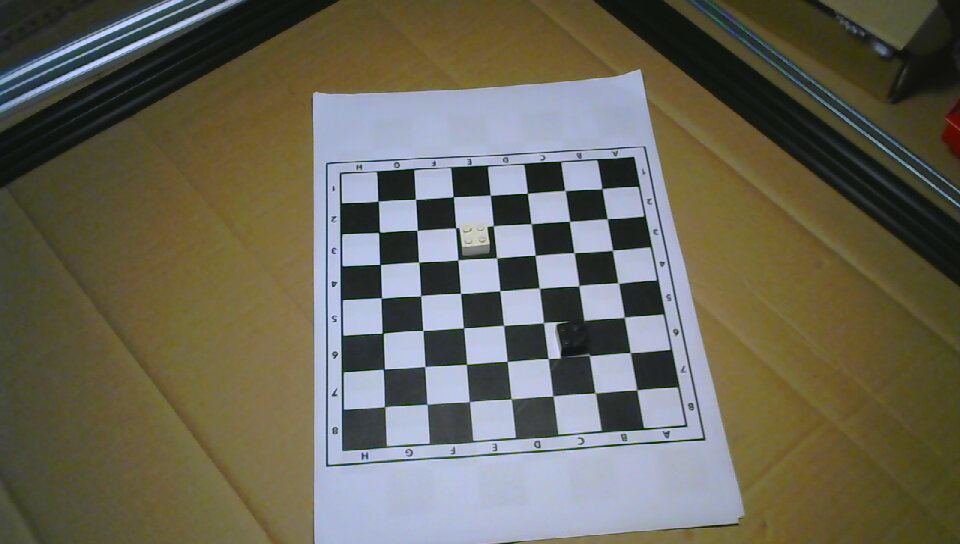bp: (555, 320, 591, 356)
wp: (458, 222, 491, 257)
